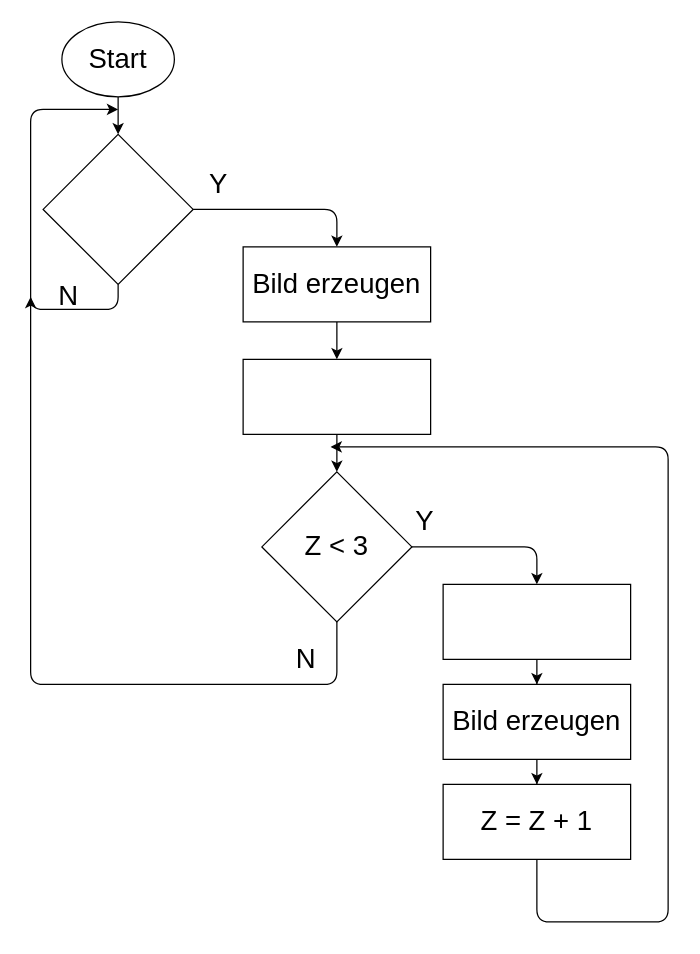
This 700x954 diagram has some shape labels left out. The box of each missing label's shape, as (x1, y1, x2, y2) in pixels:
2 Sekunden Fahren: (442, 583, 631, 659)
Kommando: (42, 133, 193, 284)
Zählervariable Z = 0: (242, 358, 431, 434)
